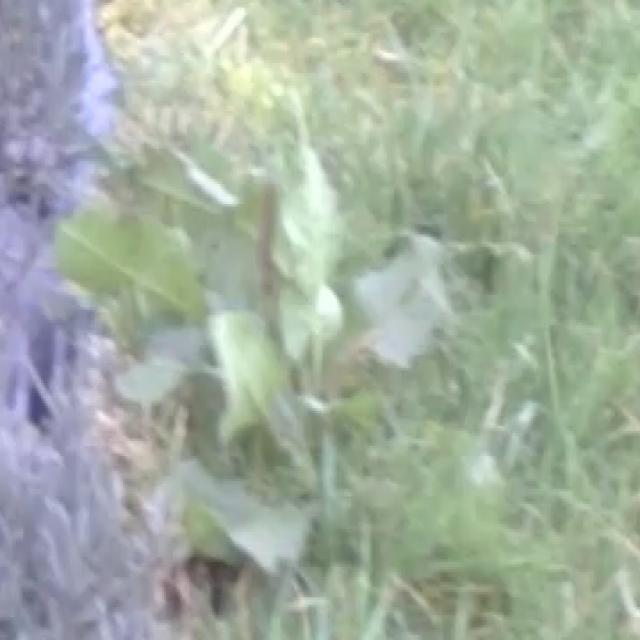organic waste: (66, 107, 524, 524)
